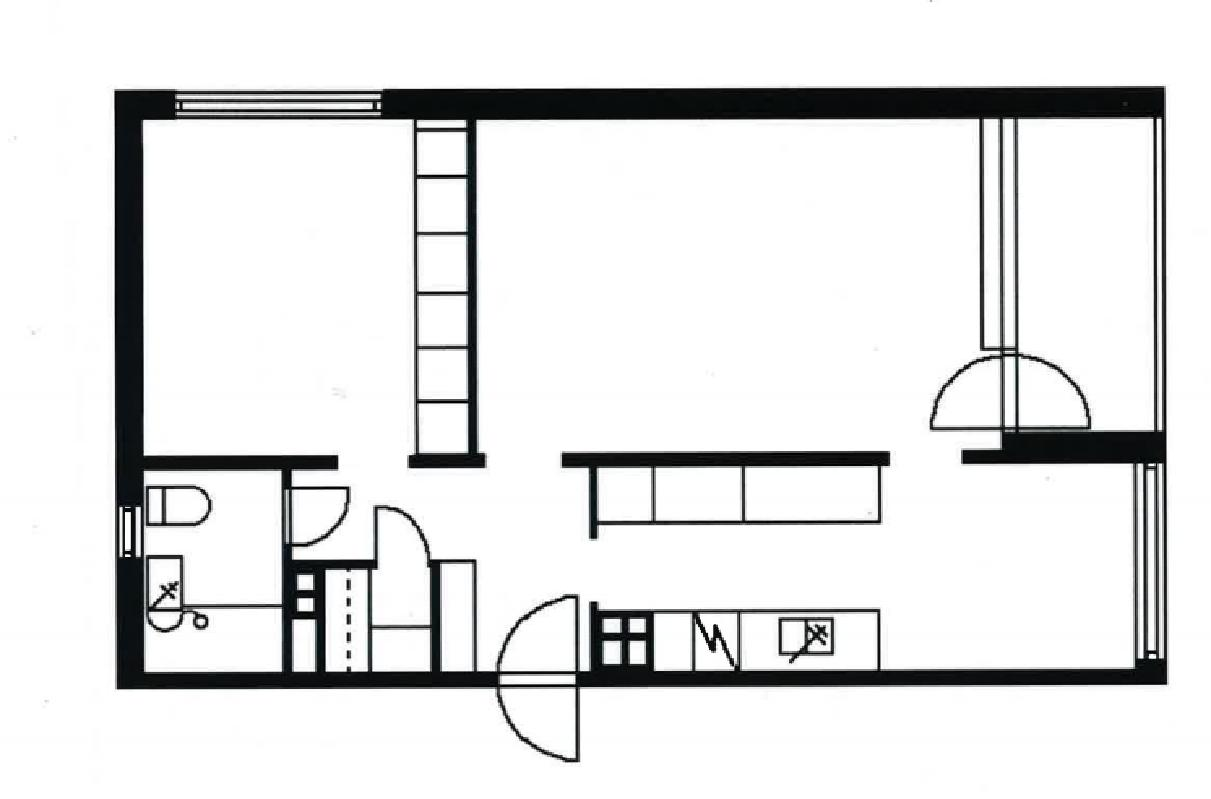door: (495, 583, 585, 772), (923, 350, 1096, 434), (370, 503, 431, 569), (284, 490, 355, 545)
window: (1134, 460, 1169, 659), (177, 89, 379, 116), (117, 507, 140, 555)
zone: (140, 117, 1137, 673), (1013, 114, 1154, 426), (141, 465, 286, 672), (295, 567, 474, 669)
